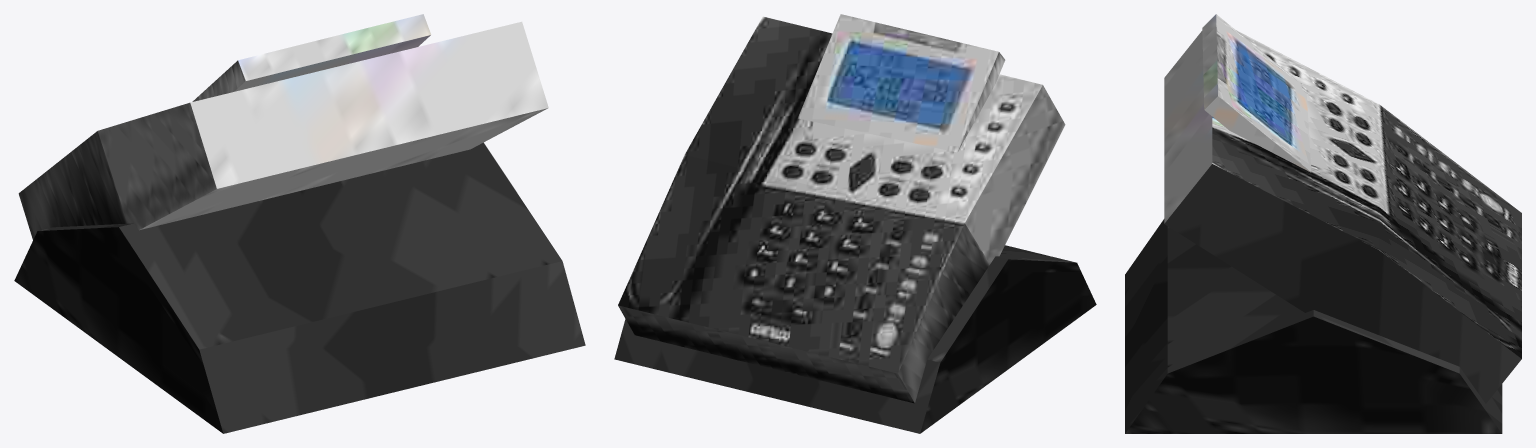
The model's file is phone.glb.
The picture shows the model from 3 angles, left to right: view 1: azimuth 30°, elevation 25°; view 2: azimuth 150°, elevation 25°; view 3: azimuth 270°, elevation 25°; orthographic projection. The views are drawn at different scales.
Parts seen in each view (by area): view 1: Phone; view 2: Phone; view 3: Phone.
Boxes of the visible parts, bbox=[...] form: Phone: bbox=[14, 14, 585, 433]; Phone: bbox=[614, 14, 1096, 433]; Phone: bbox=[1125, 14, 1521, 433].
Size of the model in its own units: 2.01 by 1.69 by 2.1.
Materials: 2 (2 with a texture image).
